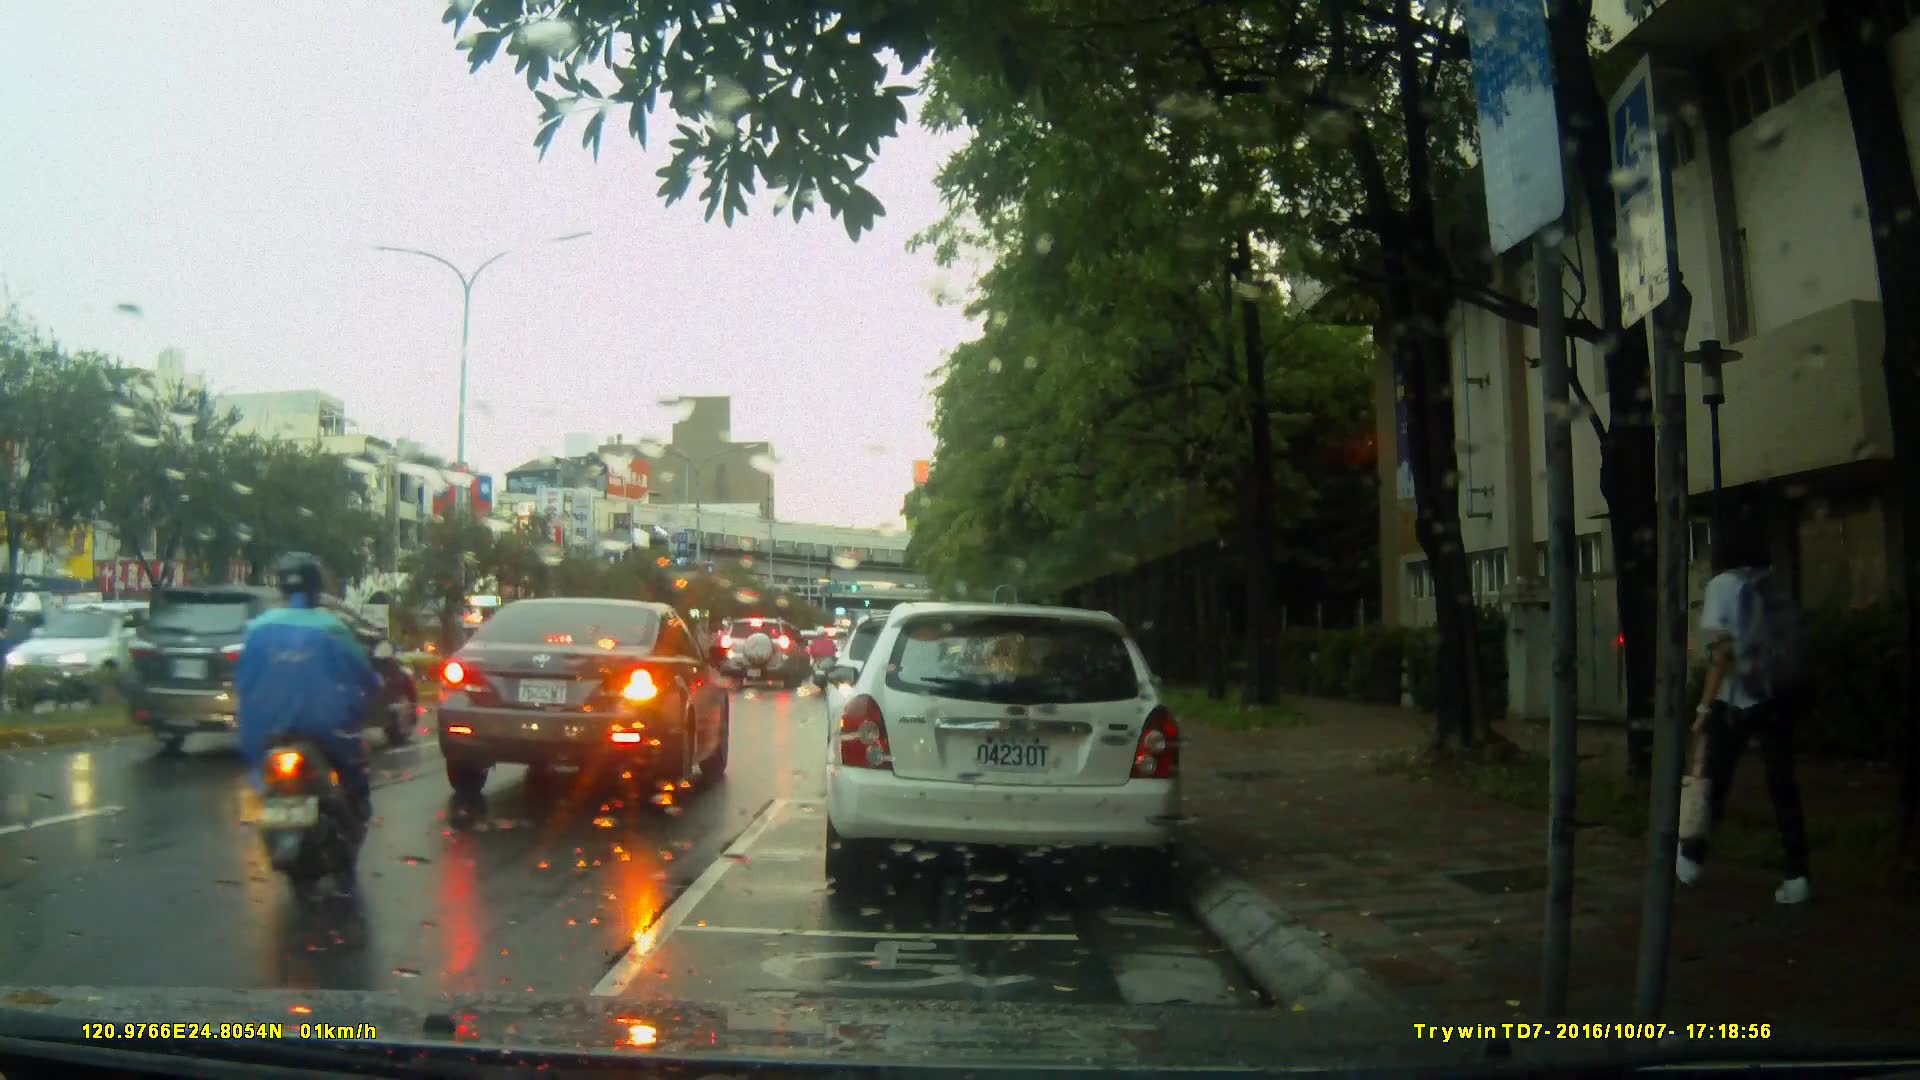pedestrian: (1669, 505, 1835, 905)
rider: (233, 549, 388, 908), (616, 600, 684, 721), (808, 625, 844, 698)
vehicle: (820, 602, 1188, 898), (437, 596, 734, 808), (127, 584, 418, 752), (722, 617, 808, 692)
